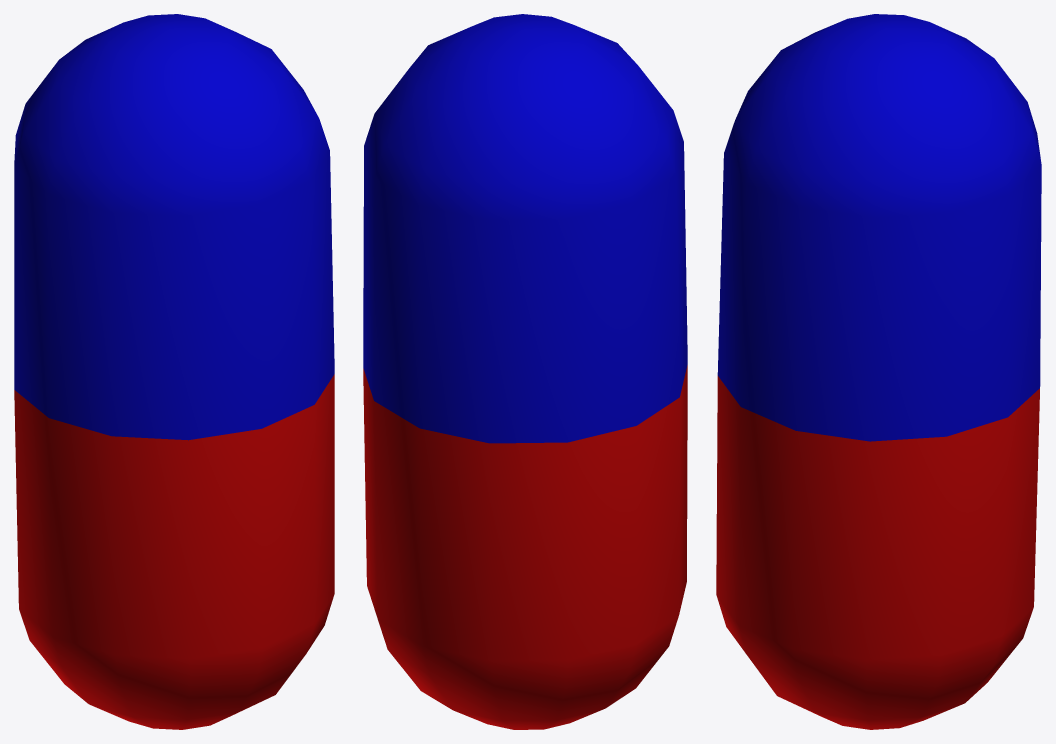
The model's file is tabletka.FBX.
3 views of the same model, side by side, from view 1: azimuth 30°, elevation 25°; view 2: azimuth 150°, elevation 25°; view 3: azimuth 270°, elevation 25° (orthographic).
Parts seen in each view (by area): view 1: OilTank001; view 2: OilTank001; view 3: OilTank001.
Part boxes in pixels (left/top/right/bottom): OilTank001: left=14, top=14, right=334, bottom=729; OilTank001: left=363, top=14, right=687, bottom=729; OilTank001: left=716, top=14, right=1041, bottom=729.
Size of the model in its own units: 1.21 by 2.84 by 1.22.
